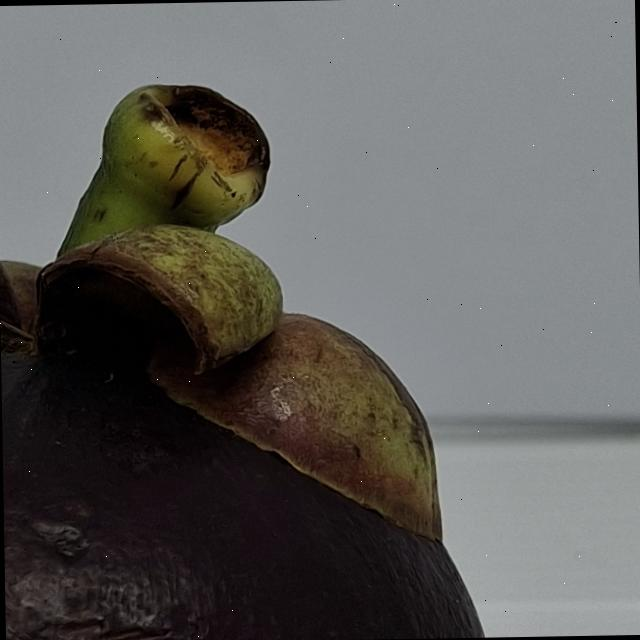mangosteen: (0, 31, 530, 640)
